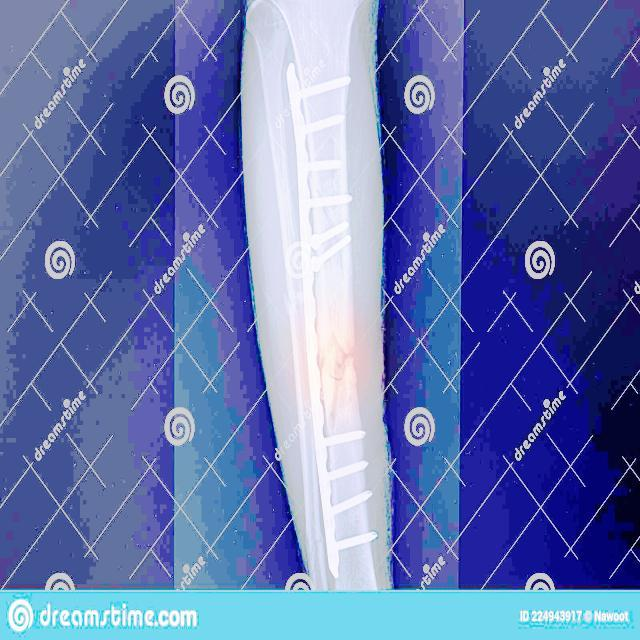Comminuted Fracture: (297, 304, 368, 414)
